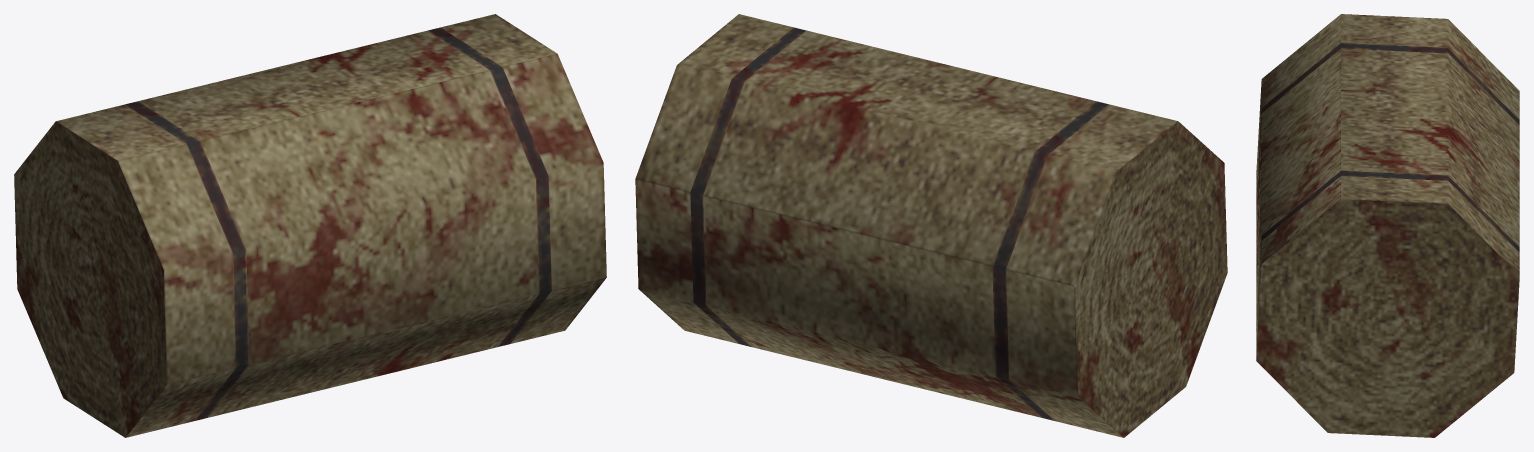
The model's file is SM_EC_Horror_Hay_5.fbx.
The picture shows the model from 3 angles, left to right: view 1: azimuth 30°, elevation 25°; view 2: azimuth 150°, elevation 25°; view 3: azimuth 270°, elevation 25°; orthographic projection. The views are drawn at different scales.
Parts seen in each view (by area): view 1: SM_EC_Horror_Hay_5; view 2: SM_EC_Horror_Hay_5; view 3: SM_EC_Horror_Hay_5.
Boxes of the visible parts, bbox=[...] form: SM_EC_Horror_Hay_5: bbox=[14, 14, 606, 437]; SM_EC_Horror_Hay_5: bbox=[635, 14, 1227, 437]; SM_EC_Horror_Hay_5: bbox=[1256, 14, 1519, 437].
Bounding box in the file's own units: 2.5 × 1.51 × 1.51.
